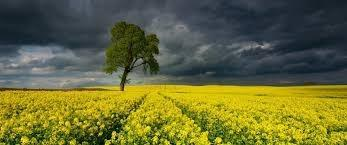field: (0, 86, 346, 145)
